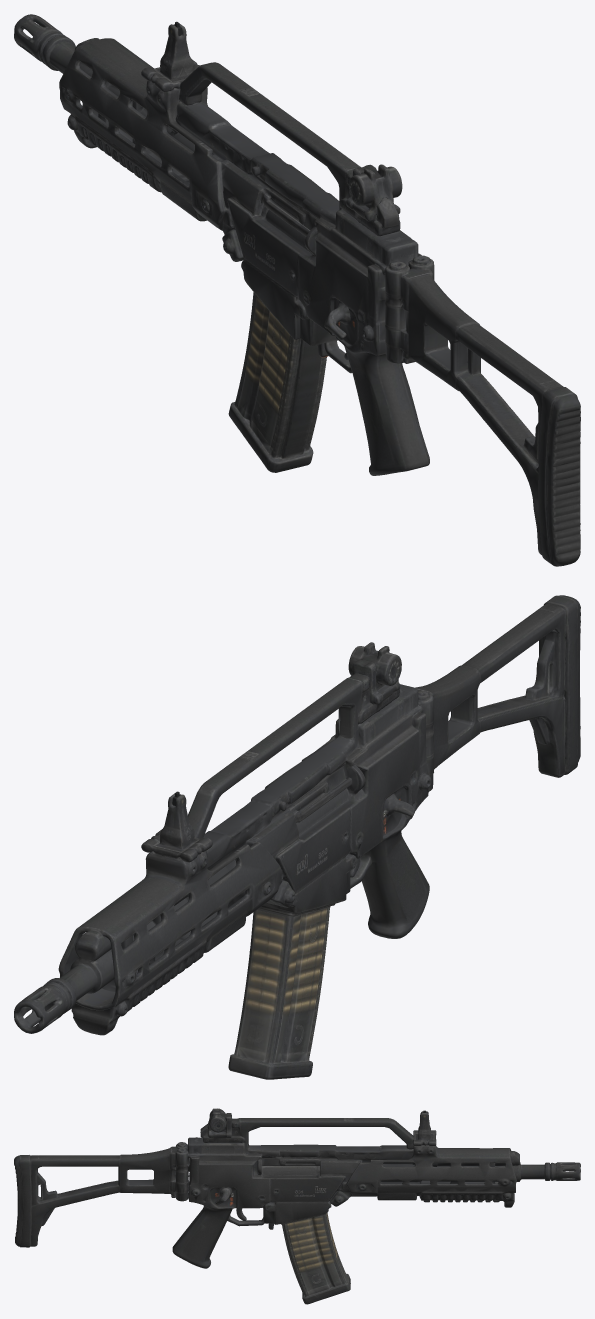
3 renders of one model, top to bottom at view 1: azimuth 30°, elevation 25°; view 2: azimuth 150°, elevation 25°; view 3: azimuth 270°, elevation 25°, orthographic. The views are drawn at different scales.
Visible parts, largest first — view 1: Body, Magazine, Sights; view 2: Body, Magazine, Sights; view 3: Body, Magazine, Sights.
Part boxes in pixels (<box>): Body: <box>14,14,580,566</box>; Magazine: <box>228,292,326,472</box>; Sights: <box>141,21,402,214</box>; Body: <box>14,595,580,1035</box>; Magazine: <box>228,906,329,1079</box>; Sights: <box>141,642,401,862</box>; Body: <box>14,1118,580,1268</box>; Magazine: <box>282,1213,350,1304</box>; Sights: <box>207,1108,436,1145</box>.
Size of the model in its own units: 0.068 by 0.2652 by 0.7199.
Materials: 1 (1 with a texture image).
